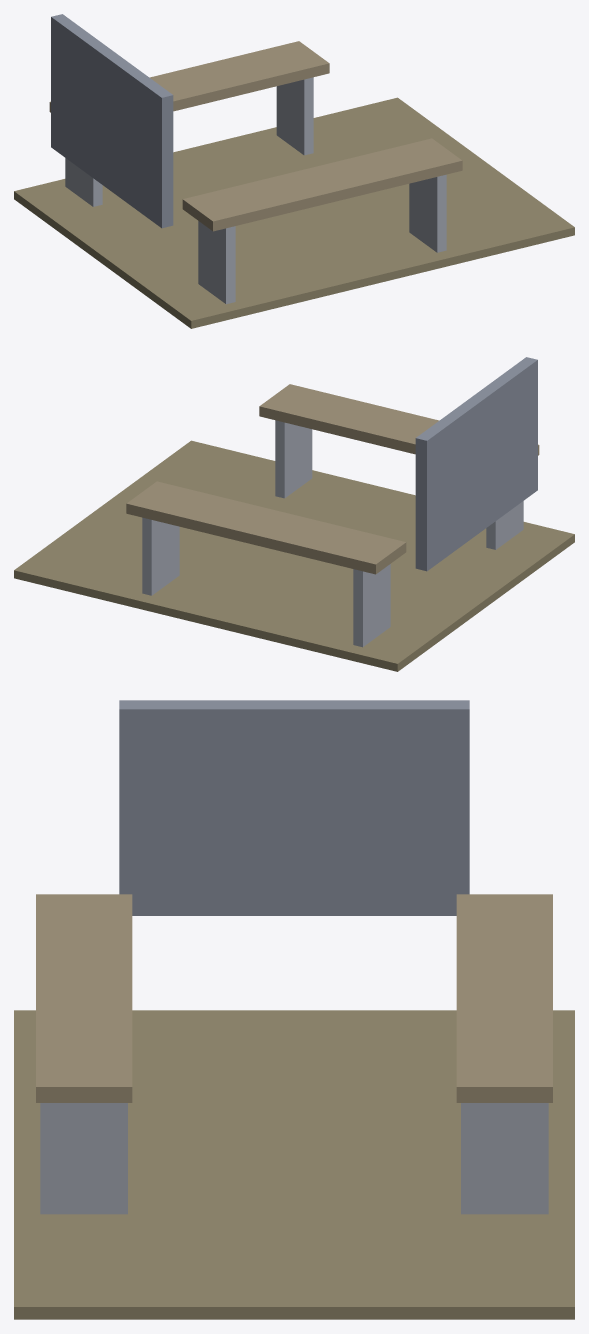
The model's file is tamir.glb.
The picture shows the model from 3 angles, top to bottom: view 1: azimuth 30°, elevation 25°; view 2: azimuth 150°, elevation 25°; view 3: azimuth 270°, elevation 25°; orthographic projection. The views are drawn at different scales.
Visible parts, largest first — view 1: TamirHucresi; view 2: TamirHucresi; view 3: TamirHucresi.
Part boxes in pixels (x1,y1,x2,y2): TamirHucresi: (14, 14, 574, 328); TamirHucresi: (14, 357, 574, 671); TamirHucresi: (14, 700, 574, 1319).
Size of the model in its own units: 4 by 2.05 by 3.2.
